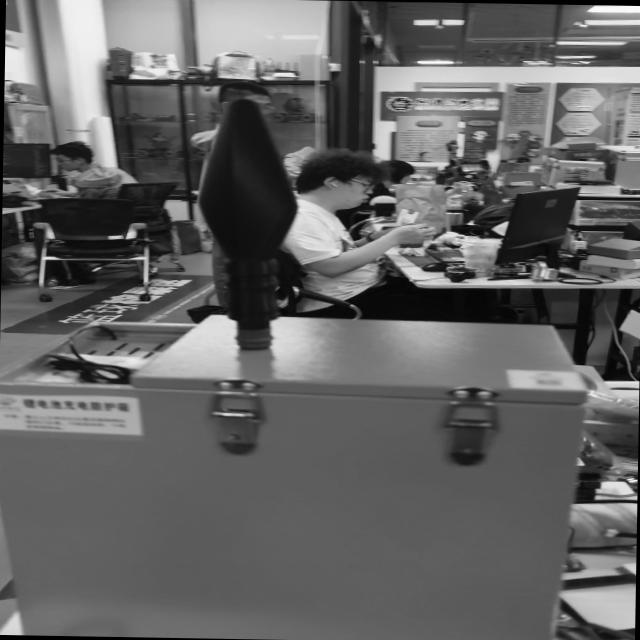base: (232, 327, 274, 352)
